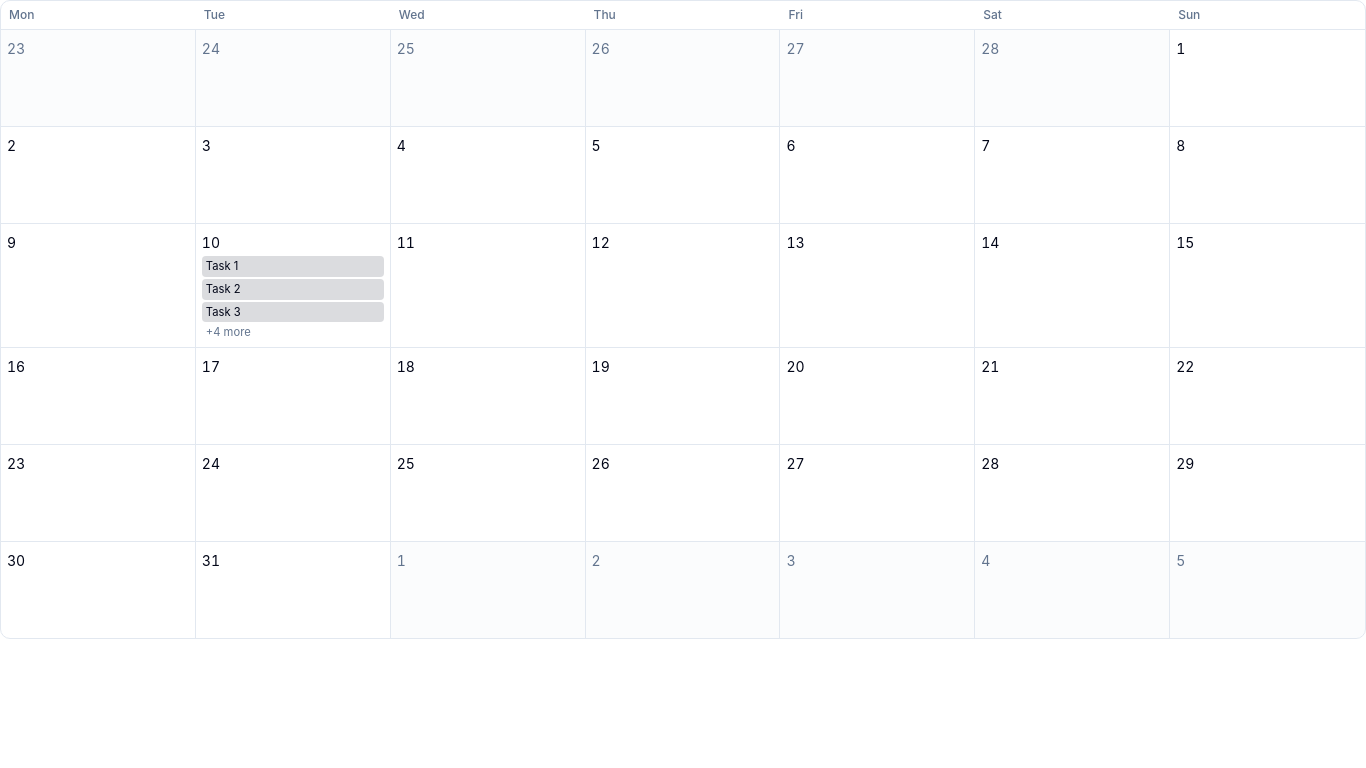
Test: a day with more on it than fits › shows all of it when it is pointed at
The image size is (1366, 768).
Hover over the element showing "10 Task 1 Task 2 Task 3 +4 more" at (293, 286), box [196,224,391,347]
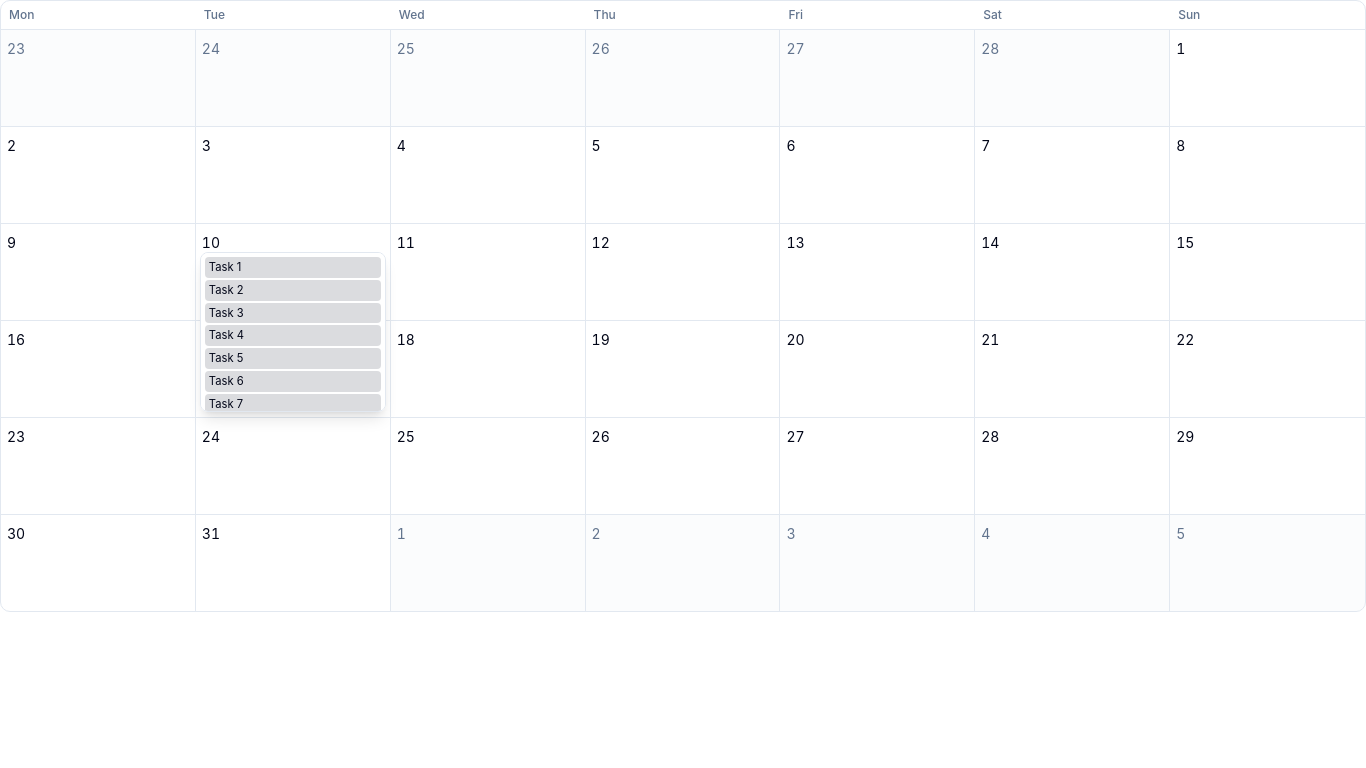
Expected: the number of list items is 7
